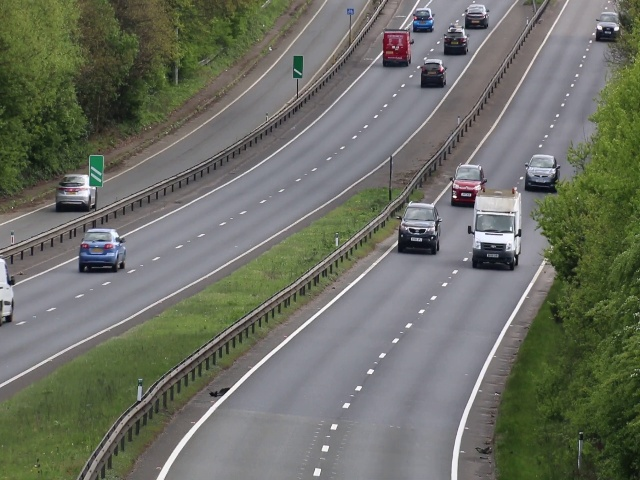car: (473, 188, 521, 271), (399, 198, 441, 256), (78, 226, 128, 274), (450, 161, 486, 210), (522, 148, 562, 192), (55, 170, 96, 208), (381, 27, 412, 68), (1, 257, 17, 321), (595, 8, 619, 43), (420, 59, 447, 90), (442, 25, 469, 55), (464, 2, 487, 30), (412, 6, 434, 35)
